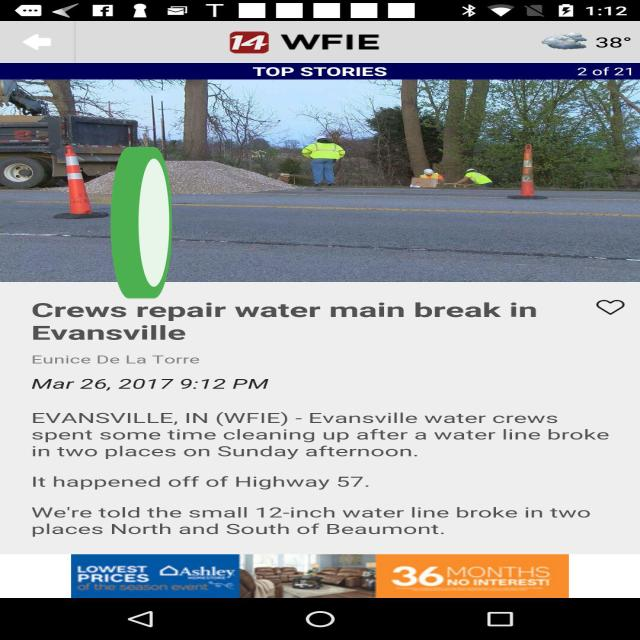social proof: (108, 89, 175, 368)
